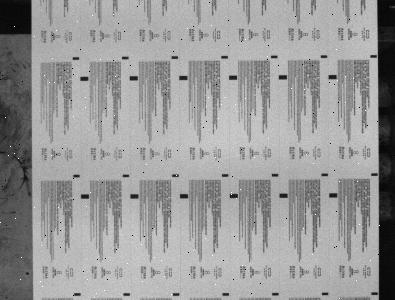backgroundclutter: (26, 272, 29, 275)
qblock: (129, 76, 138, 81), (179, 75, 188, 80), (279, 193, 288, 198), (80, 76, 88, 81), (229, 75, 237, 80), (81, 194, 89, 199), (230, 193, 238, 198), (328, 75, 337, 79), (329, 193, 338, 197), (279, 75, 287, 79), (130, 194, 138, 198), (180, 194, 188, 198)
smallqblock: (271, 173, 279, 177), (123, 293, 131, 297), (221, 55, 228, 59), (73, 174, 80, 178), (172, 293, 180, 296), (222, 293, 230, 296), (320, 55, 328, 58), (122, 174, 130, 177), (72, 57, 79, 60), (74, 293, 81, 296), (171, 56, 178, 59), (122, 56, 129, 59), (271, 55, 278, 58), (272, 292, 279, 295), (322, 292, 329, 295), (222, 174, 229, 177), (172, 174, 179, 177), (370, 55, 377, 58), (371, 292, 378, 295), (321, 173, 328, 176), (371, 173, 378, 176)
